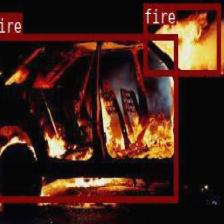fire: (0, 33, 176, 200), (143, 3, 220, 75)
